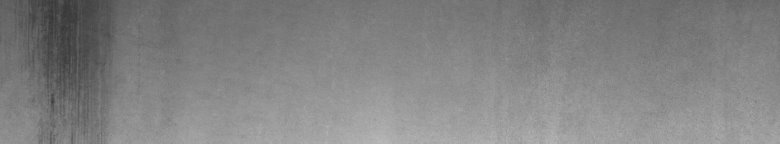ka: (29, 4, 110, 136)
